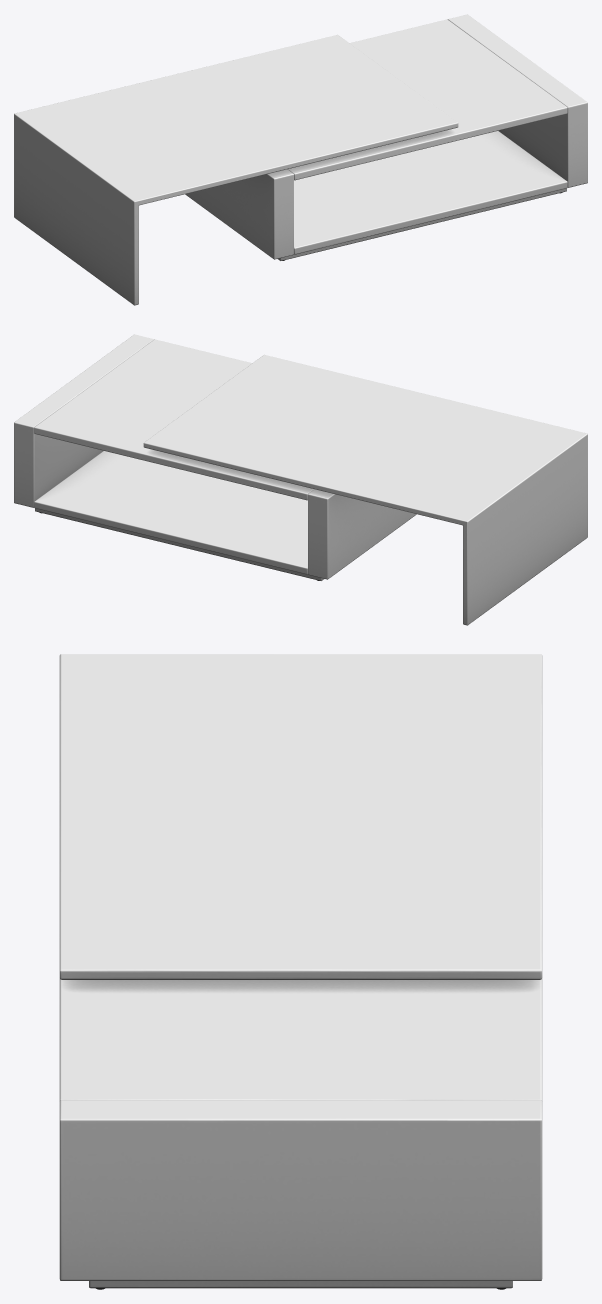
Rendered from bramante.gltf.
The picture shows the model from 3 angles, top to bottom: view 1: azimuth 30°, elevation 25°; view 2: azimuth 150°, elevation 25°; view 3: azimuth 270°, elevation 25°; orthographic projection. The views are drawn at different scales.
Parts seen in each view (by area): view 1: GREY_GREY_0; view 2: GREY_GREY_0; view 3: GREY_GREY_0.
Part boxes in pixels (left/top/right/bottom): GREY_GREY_0: left=14, top=14, right=587, bottom=305; GREY_GREY_0: left=14, top=334, right=587, bottom=625; GREY_GREY_0: left=59, top=654, right=542, bottom=1288.
Size of what is drawn, in the model's own units: 115 by 25.26 by 53.
Materials: 3 (3 with a texture image).
